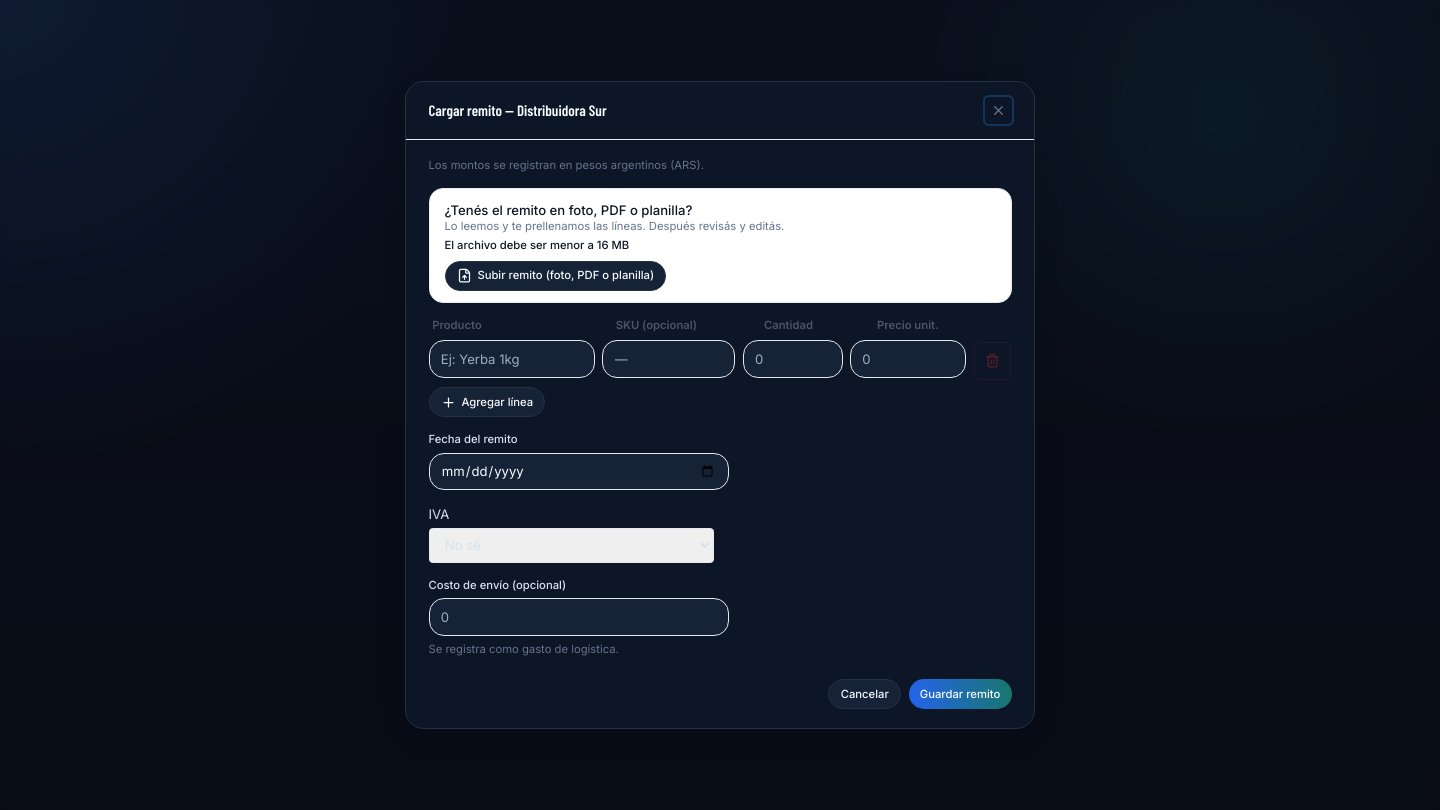
it: si el backend rechaza, muestra su motivo
Type "Yerba" into the field with placeholder "Ej: Yerba 1kg". click: (512, 359)
box: 428,340 -> 595,378
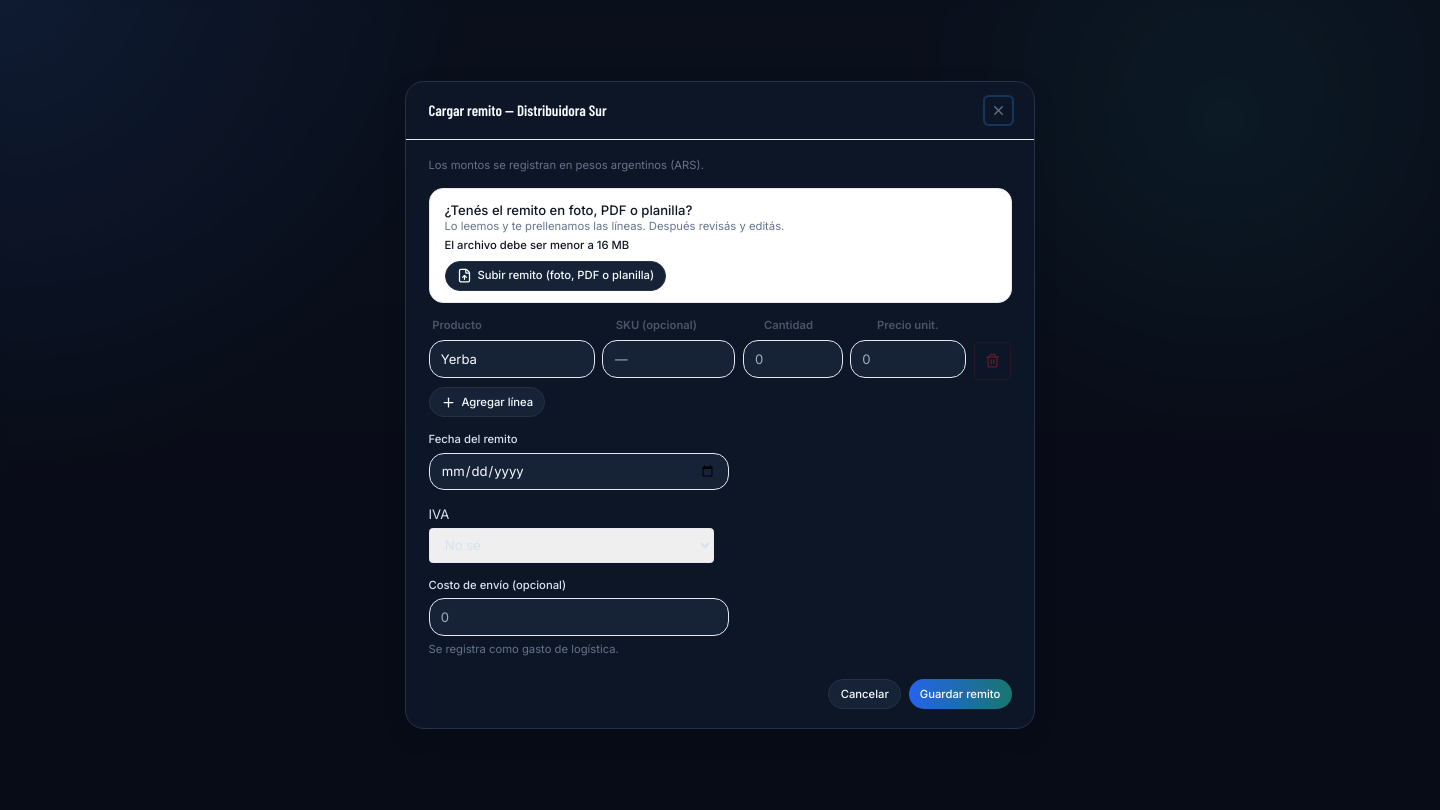
Type "10" into the 1st number field with placeholder "0". click: (793, 359)
box: 743,340 -> 843,378
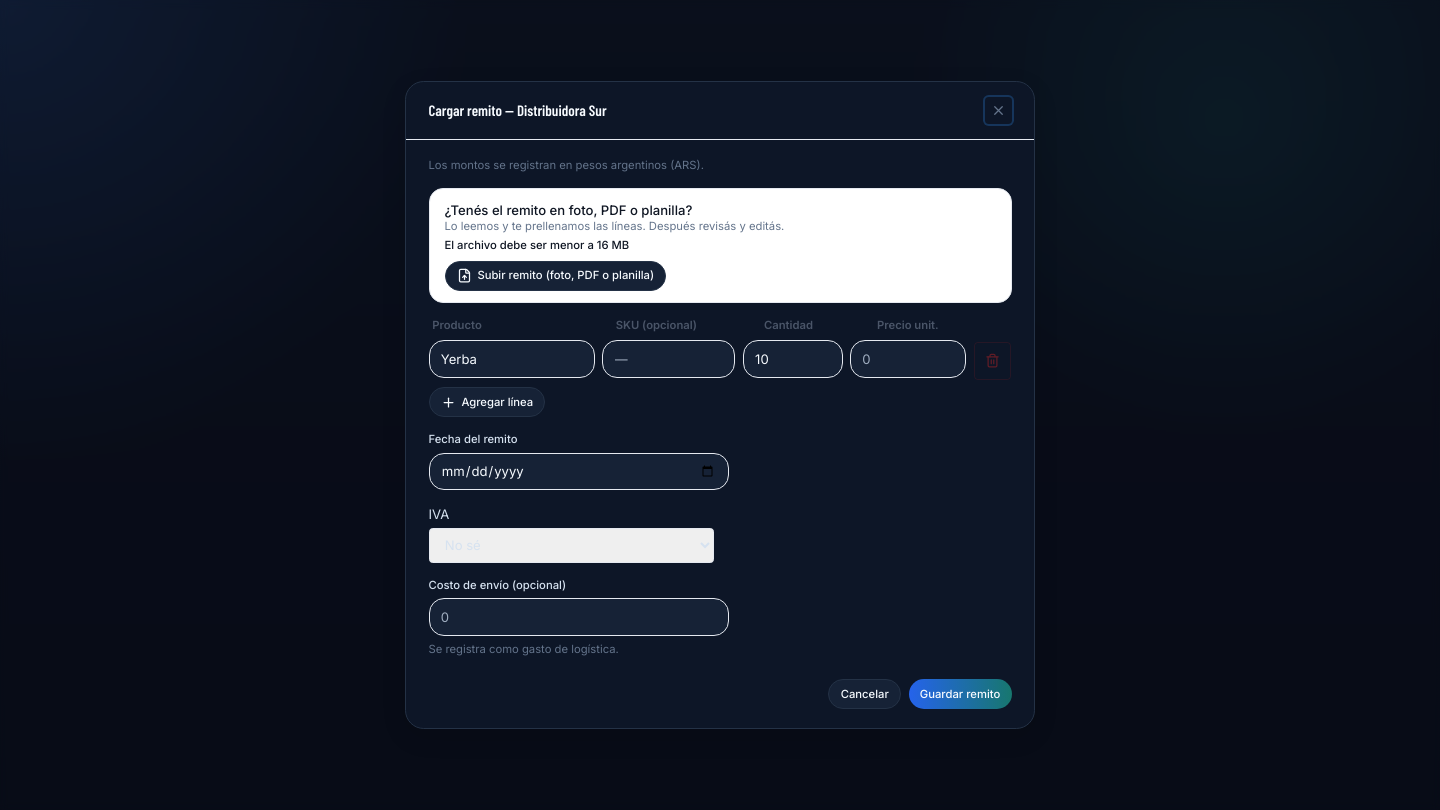
Type "800" into the number field with placeholder "0". click: (908, 359)
box: 850,340 -> 966,378
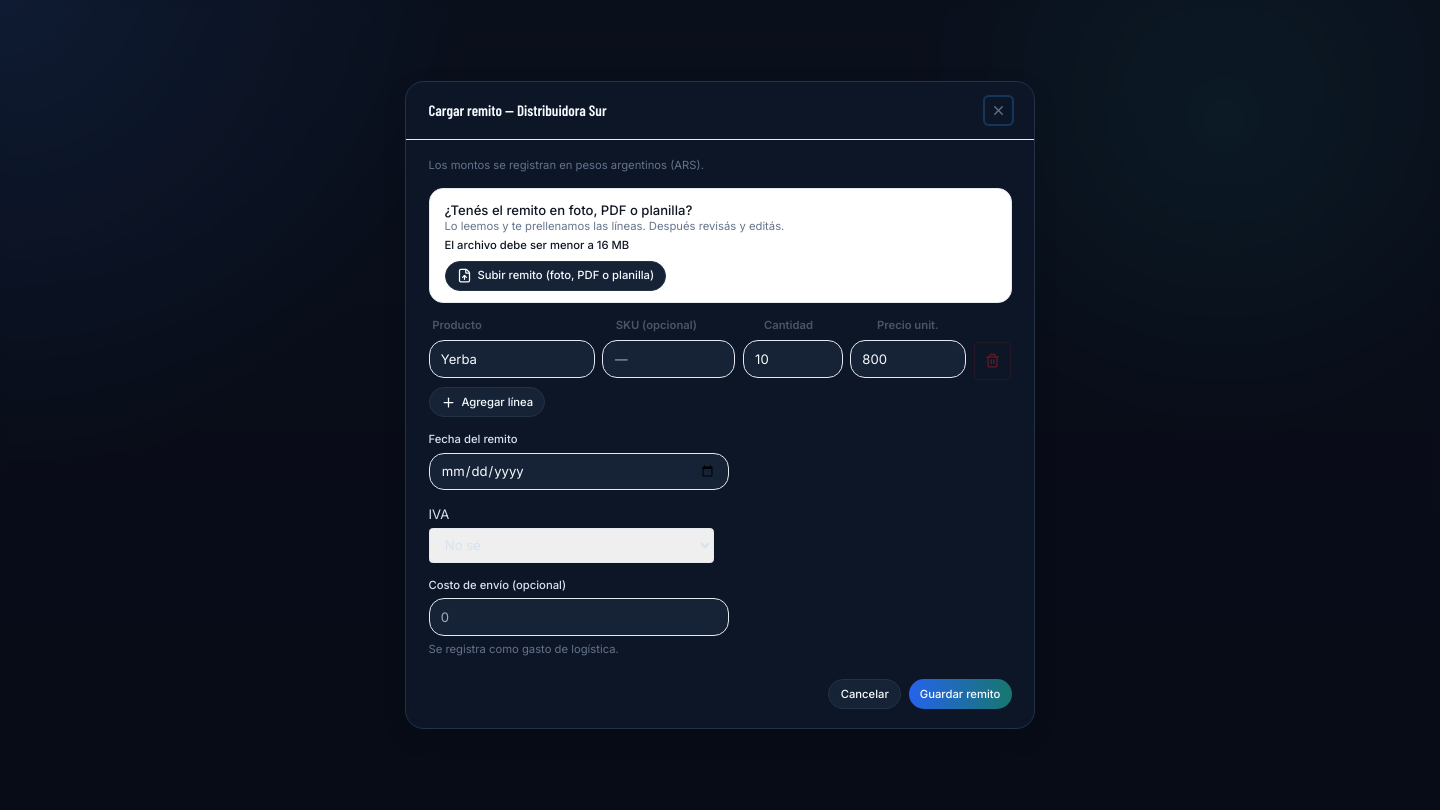
Type "2026-09-15" into the date field labelled "Fecha del remito". click: (578, 472)
box: 428,453 -> 728,490
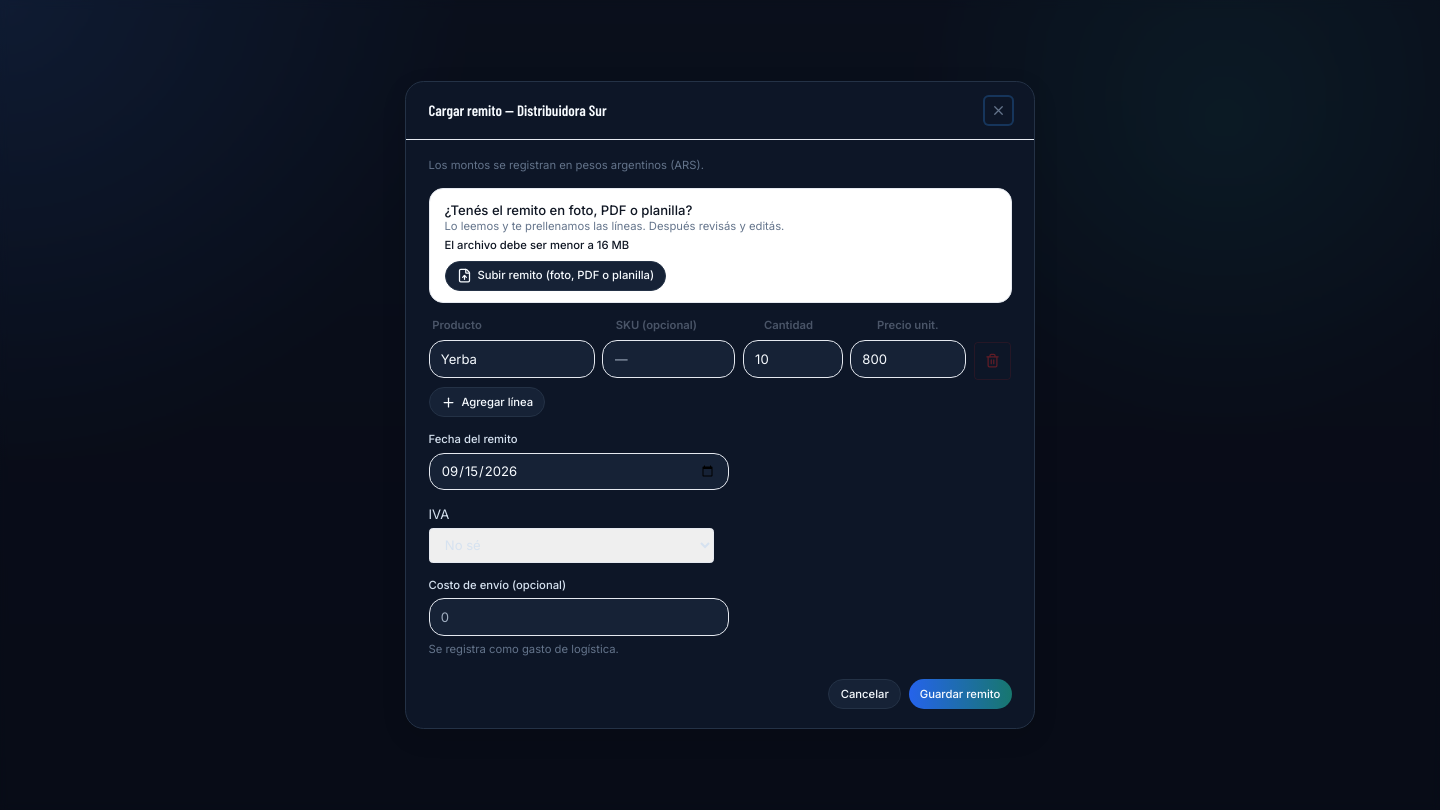
Click the button "Guardar remito". click: (960, 694)
box: 908,679 -> 1012,709
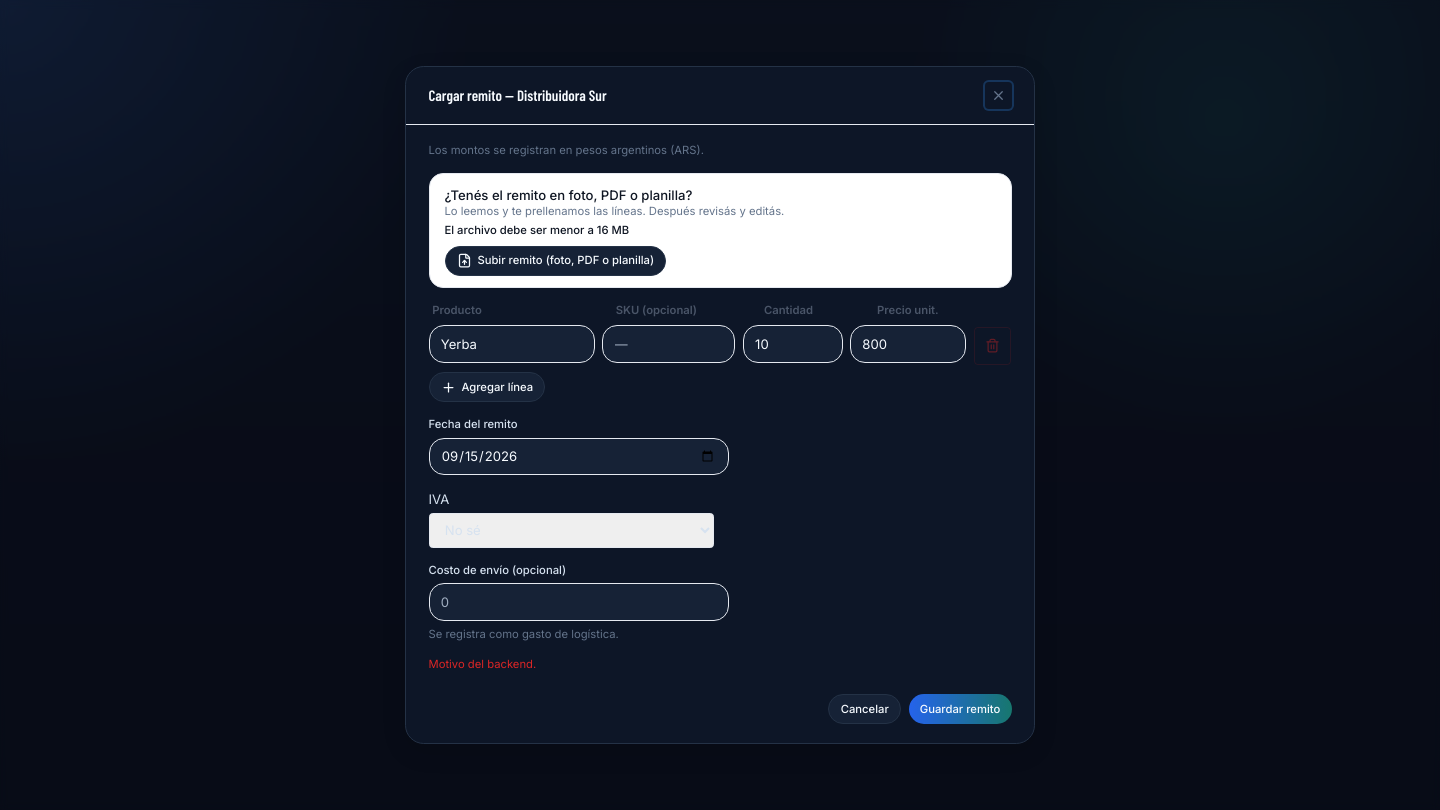
Expected: the text "Motivo del backend." is shown, 428,656 -> 536,670
